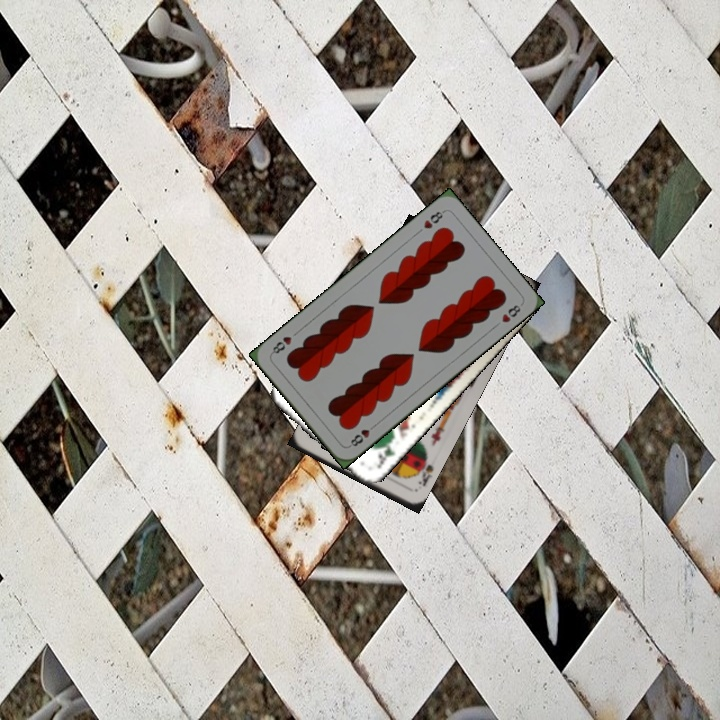GK: (373, 435, 398, 472)
H8: (345, 420, 379, 450), (419, 206, 447, 231)
SK: (411, 453, 436, 489)
